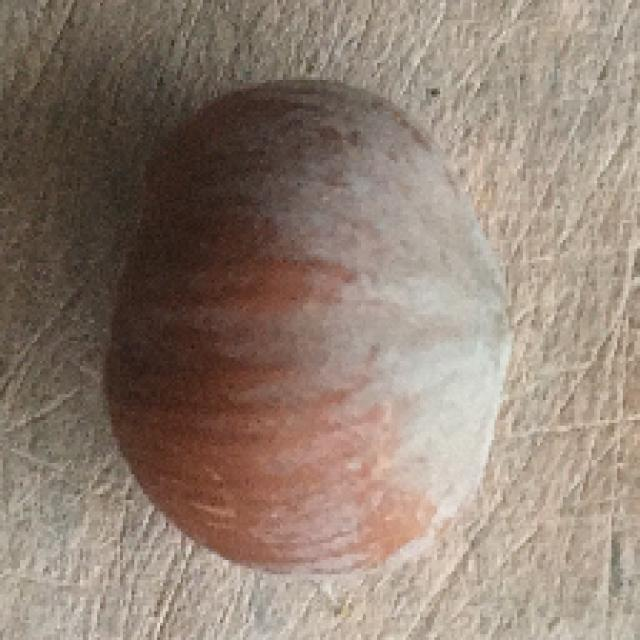qualityHazelnut: (99, 73, 522, 579)
